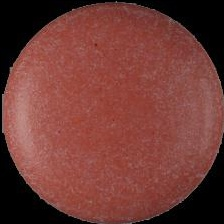68084-603: (0, 0, 224, 224)
